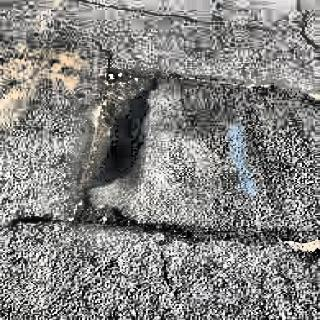crack: (106, 5, 200, 26), (292, 1, 320, 48), (92, 36, 118, 69)
pothole: (74, 68, 229, 236)
